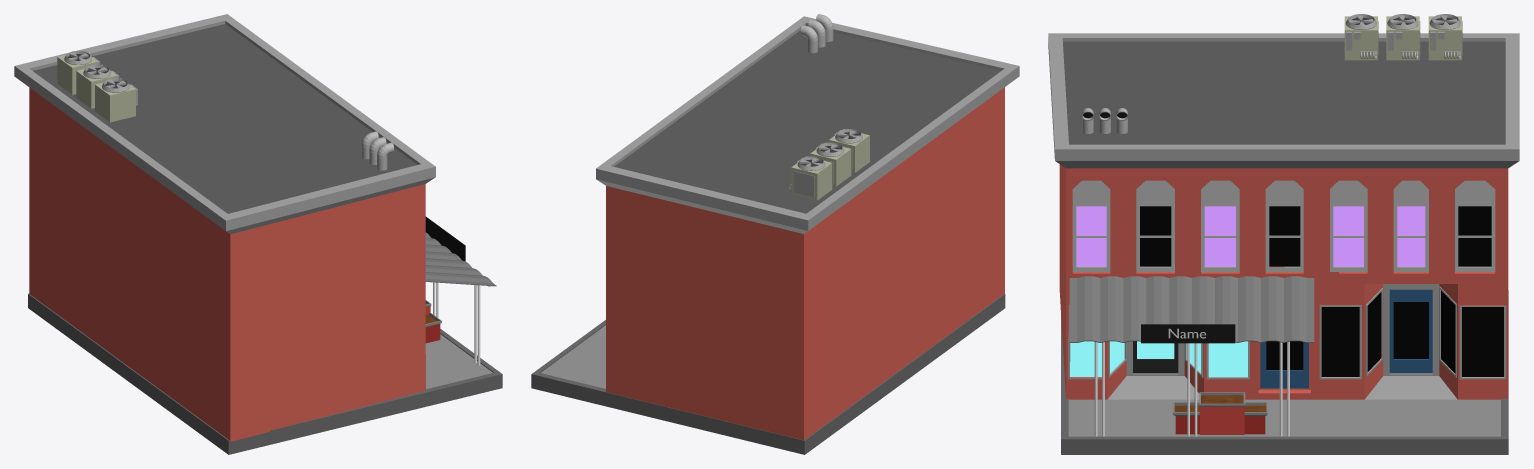
Rendered from GoodMPublic.glb.
3 renders of one model, left to right at view 1: azimuth 30°, elevation 25°; view 2: azimuth 150°, elevation 25°; view 3: azimuth 270°, elevation 25°, orthographic. The views are drawn at different scales.
Visible parts, largest first — view 1: Cube, Cube.001, Plane, Plane.001, Cube.005, Cube.003, Cube.004, Cylinder.004, Plane.002, Cylinder.002, Cube.002; view 2: Cube, Cube.001, Plane, Cube.003, Cube.004, Cube.005, Cylinder.004; view 3: Cube, Plane.001, Plane, Cube.001, Cube.002, Plane.002, Cube.004, Cube.003, Cube.005, Cylinder.004, Cylinder.001, Cylinder.002 (+1 smaller).
Boxes of the visible parts, left/top/right/bottom form: Cube: left=14, top=14, right=435, bottom=441; Cube.001: left=28, top=293, right=502, bottom=454; Plane: left=425, top=334, right=492, bottom=389; Plane.001: left=425, top=232, right=496, bottom=286; Cube.005: left=95, top=78, right=137, bottom=122; Cube.003: left=57, top=50, right=100, bottom=94; Cube.004: left=76, top=64, right=119, bottom=108; Cylinder.004: left=361, top=131, right=393, bottom=170; Plane.002: left=425, top=216, right=465, bottom=261; Cylinder.002: left=474, top=285, right=480, bottom=365; Cube.002: left=425, top=300, right=441, bottom=343; Cube: left=596, top=16, right=1019, bottom=440; Cube.001: left=531, top=294, right=1005, bottom=454; Plane: left=541, top=325, right=605, bottom=388; Cube.003: left=789, top=156, right=832, bottom=200; Cube.004: left=810, top=142, right=851, bottom=186; Cube.005: left=829, top=129, right=869, bottom=172; Cylinder.004: left=800, top=14, right=833, bottom=53; Cube: left=1048, top=33, right=1519, bottom=399; Plane.001: left=1069, top=276, right=1314, bottom=342; Plane: left=1068, top=399, right=1500, bottom=436; Cube.001: left=1061, top=290, right=1508, bottom=454; Cube.002: left=1173, top=392, right=1267, bottom=434; Plane.002: left=1141, top=324, right=1235, bottom=343; Cube.004: left=1386, top=14, right=1420, bottom=60; Cube.003: left=1428, top=14, right=1462, bottom=60; Cube.005: left=1344, top=14, right=1378, bottom=60; Cylinder.004: left=1082, top=108, right=1127, bottom=133; Cylinder.001: left=1279, top=341, right=1289, bottom=436; Cylinder.002: left=1094, top=342, right=1104, bottom=436.
Size of the model in its own units: 22.8 by 20.64 by 29.56.
